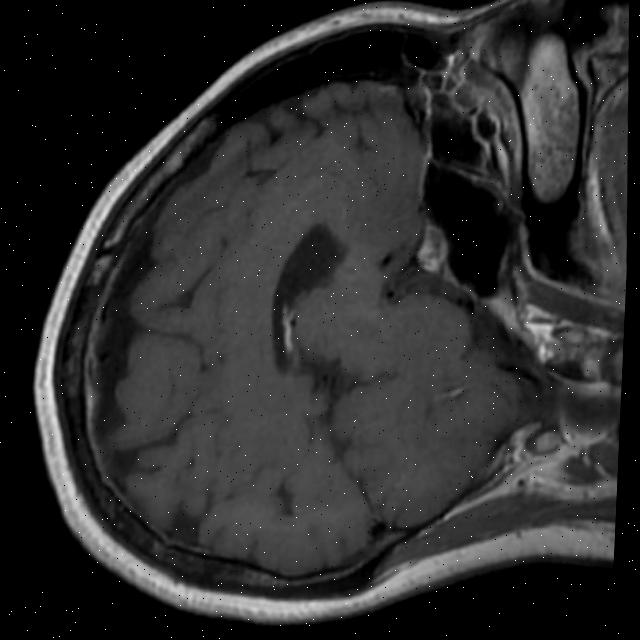Pituitary: (412, 220, 452, 276)
